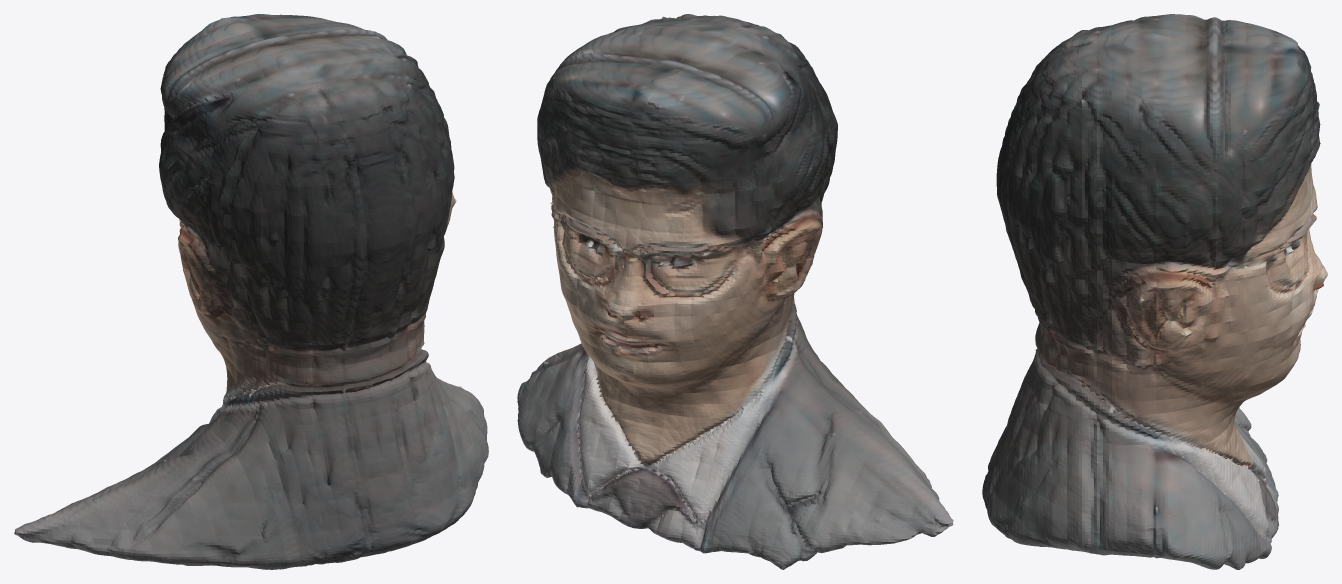
File: shubh-bust-final.glb
The picture shows the model from 3 angles, left to right: view 1: azimuth 30°, elevation 25°; view 2: azimuth 150°, elevation 25°; view 3: azimuth 270°, elevation 25°; orthographic projection. The views are drawn at different scales.
Visible parts, largest first — view 1: world; view 2: world; view 3: world.
Part boxes in pixels (<box>): world: <box>14,14,488,569</box>; world: <box>517,14,953,569</box>; world: <box>982,14,1327,569</box>.
Bounding box in the file's own units: 0.9972 × 0.997 × 0.6337.
